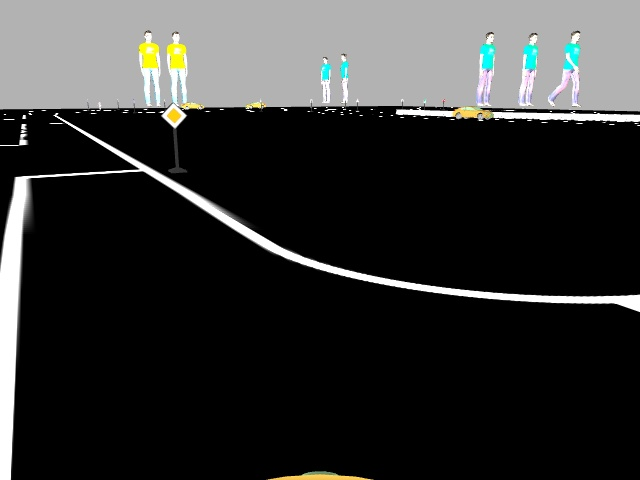Priority: (161, 100, 186, 126)
